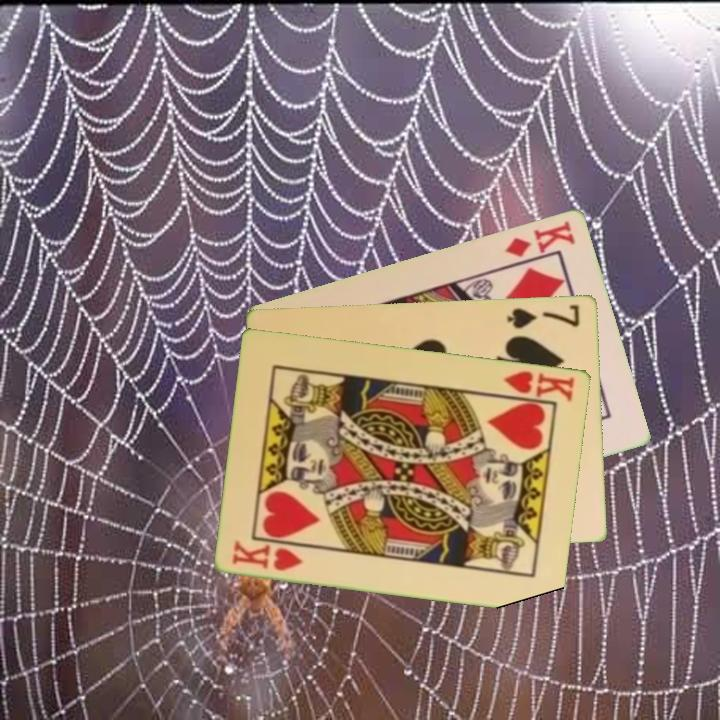7s: (503, 300, 583, 331)
Kd: (501, 217, 578, 260)
Kh: (494, 367, 578, 404), (229, 536, 306, 574)
